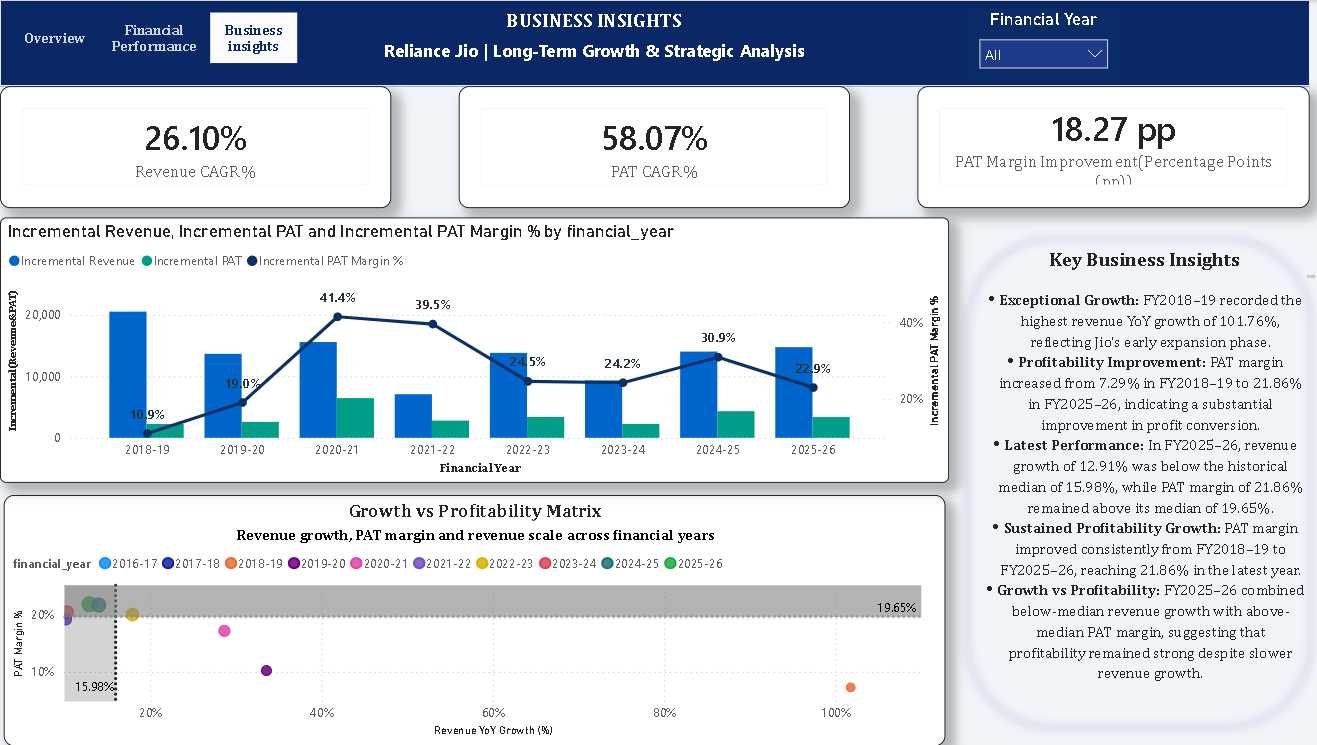

This screenshot's page, from the dashboard's own definition file:
{"tool":"powerbi","page":{"name":"Business insights","canvas":[1280,720],"ordinal":2},"visuals":[{"type":"shape","box":[0,0,1264.3,83.2],"z":0},{"type":"slicer","title":"Financial Year","fields":{"Values":["public vw_jio_financial_performance.financial_year"]},"box":[935,8.4,144.8,66.4],"z":1000},{"type":"textbox","title":"BUSINESS INSIGHTS","box":[229.9,0,686,74.6],"z":2000},{"type":"cardVisual","fields":{"Data":["public vw_jio_financial_performance.Revenue CAGR %"]},"box":[0,83.8,377.5,117.5],"z":3000},{"type":"cardVisual","fields":{"Data":["public vw_jio_financial_performance.PAT CAGR %"]},"box":[442.5,83.8,377.5,117.5],"z":4000},{"type":"cardVisual","fields":{"Data":["public vw_jio_financial_performance.PAT Margin Improvement (pp)"]},"box":[885,83.8,378.8,117.5],"z":5000},{"type":"scatterChart","title":"Growth vs Profitability Matrix","fields":{"X":["public vw_jio_financial_performance.Revenue YoY Growth %"],"Y":["public vw_jio_financial_performance.PAT Margin %"],"Size":["public vw_jio_financial_performance.Annual Revenue"],"Series":["public vw_jio_financial_performance.financial_year"]},"box":[3.8,477.5,908.8,242.5],"z":6000},{"type":"shape","box":[925.3,222,348.7,488.6],"z":7000},{"type":"textbox","title":"Key Business Insights","box":[935,238.9,339,35],"z":8000},{"type":"textbox","box":[935,273.9,329.4,428.3],"z":9000},{"type":"lineClusteredColumnComboChart","fields":{"Category":["public vw_jio_financial_performance.financial_year"],"Y":["public vw_jio_financial_performance.Incremental Revenue","public vw_jio_financial_performance.Incremental PAT"],"Y2":["public vw_jio_financial_performance.Incremental PAT Margin %"]},"box":[0,210,916.2,256.2],"z":10000},{"type":"shape","box":[877.1,48.3,38.6,26.5],"z":11000},{"type":"pageNavigator","box":[10.9,12.1,278.7,49.5],"z":12000}]}

Visuals, with their boxes in screenshot pixels (x1, y1, x2, y2), scaled from the page's 1280x720 canvas onto the 1317x745 screenshot:
shape: {"left": 0, "top": 0, "right": 1301, "bottom": 86}
"Financial Year" slicer: {"left": 962, "top": 9, "right": 1111, "bottom": 77}
"BUSINESS INSIGHTS" textbox: {"left": 237, "top": 0, "right": 942, "bottom": 77}
cardVisual - public vw_jio_financial_performance.Revenue CAGR %: {"left": 0, "top": 87, "right": 388, "bottom": 208}
cardVisual - public vw_jio_financial_performance.PAT CAGR %: {"left": 455, "top": 87, "right": 844, "bottom": 208}
cardVisual - public vw_jio_financial_performance.PAT Margin Improvement (pp): {"left": 911, "top": 87, "right": 1300, "bottom": 208}
"Growth vs Profitability Matrix" scatterChart: {"left": 4, "top": 494, "right": 939, "bottom": 744}
shape: {"left": 952, "top": 230, "right": 1311, "bottom": 735}
"Key Business Insights" textbox: {"left": 962, "top": 247, "right": 1311, "bottom": 283}
textbox: {"left": 962, "top": 283, "right": 1301, "bottom": 727}
lineClusteredColumnComboChart - public vw_jio_financial_performance.financial_year x public vw_jio_financial_performance.Incremental Revenue: {"left": 0, "top": 217, "right": 943, "bottom": 482}
shape: {"left": 902, "top": 50, "right": 942, "bottom": 77}
pageNavigator: {"left": 11, "top": 13, "right": 298, "bottom": 64}
